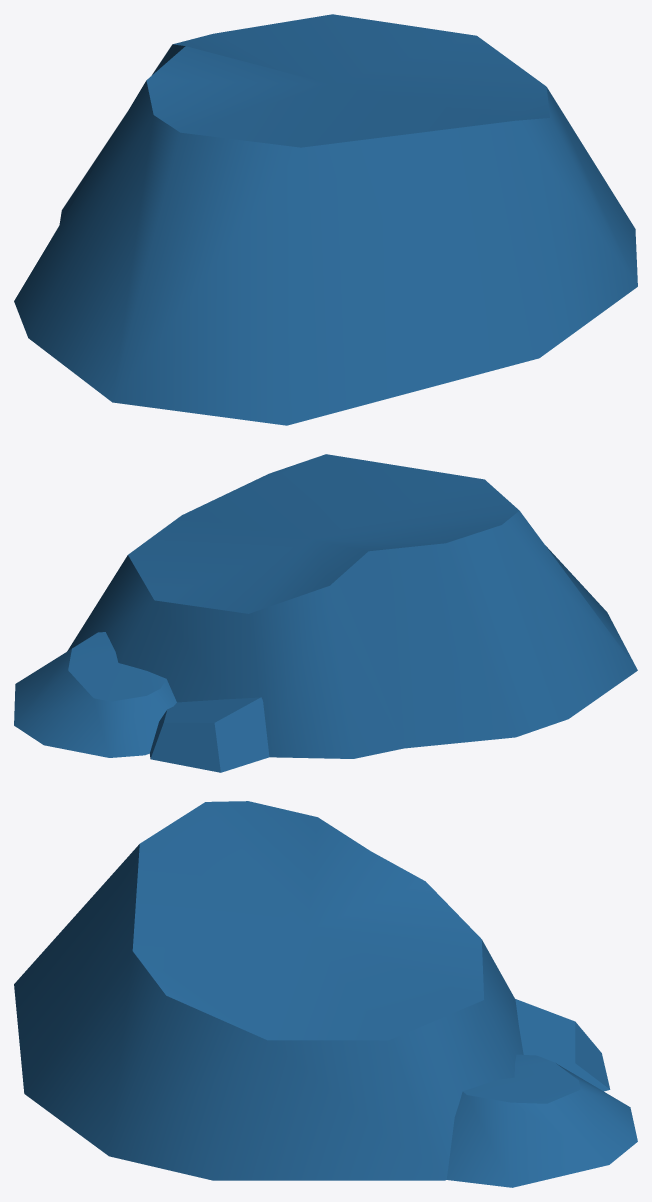
Rendered from mdl_iceRock01_2.fbx.
The picture shows the model from 3 angles, top to bottom: view 1: azimuth 30°, elevation 25°; view 2: azimuth 150°, elevation 25°; view 3: azimuth 270°, elevation 25°; orthographic projection. The views are drawn at different scales.
Visible parts, largest first — view 1: mdl_iceRock01_3; view 2: mdl_iceRock01_3; view 3: mdl_iceRock01_3.
Part boxes in pixels (box(x1,y1,x2,y2)): mdl_iceRock01_3: box(14, 14, 637, 425); mdl_iceRock01_3: box(14, 454, 637, 772); mdl_iceRock01_3: box(14, 801, 637, 1187).
Size of the model in its own units: 120 by 41.22 by 127.
1 material, 1 textured.
